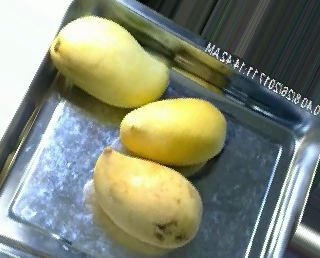Mango: (48, 16, 170, 108), (93, 148, 203, 248), (119, 99, 227, 163)
